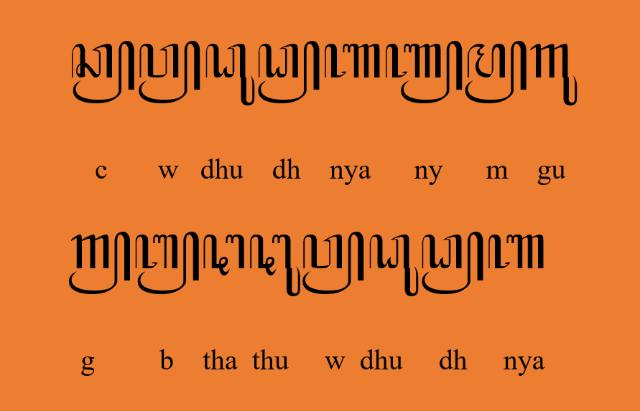-b: (134, 231, 200, 295)
-c: (70, 40, 136, 104)
-dh: (258, 40, 320, 104), (422, 231, 484, 295)
-g: (68, 231, 130, 296)
-m: (464, 40, 528, 104)
-ny: (384, 40, 464, 104)
-w: (137, 40, 200, 104), (302, 231, 364, 296)
dhu: (204, 42, 256, 106), (368, 234, 419, 298)
gu: (530, 42, 578, 106)
ny1: (487, 234, 545, 270), (324, 43, 381, 79)
th: (202, 234, 245, 276)
thu: (250, 234, 300, 298)
